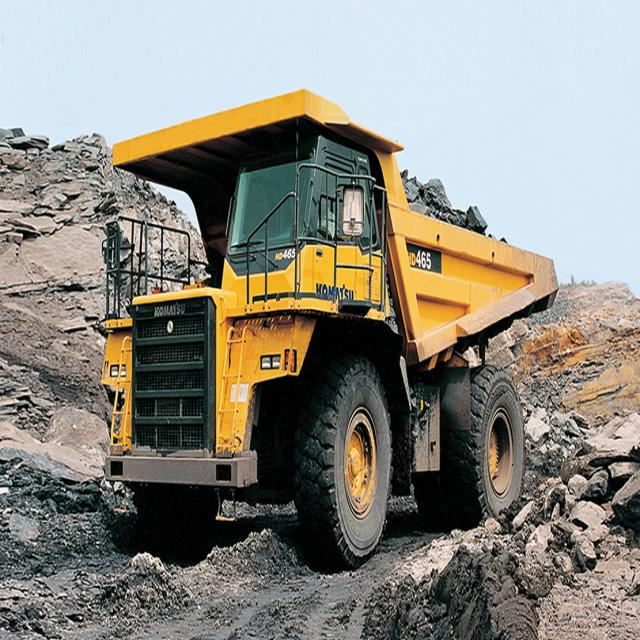dump_truck: (105, 85, 561, 540)
